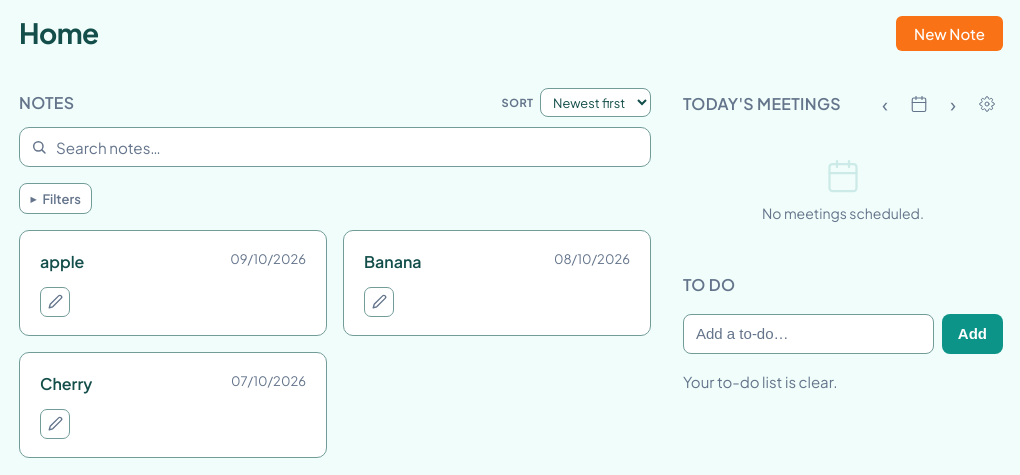
Test case: 40-B — sort control › is hidden while searching
Type "plan" into the search field labelled "Search notes…" at (335, 147), box [19,127,651,167]
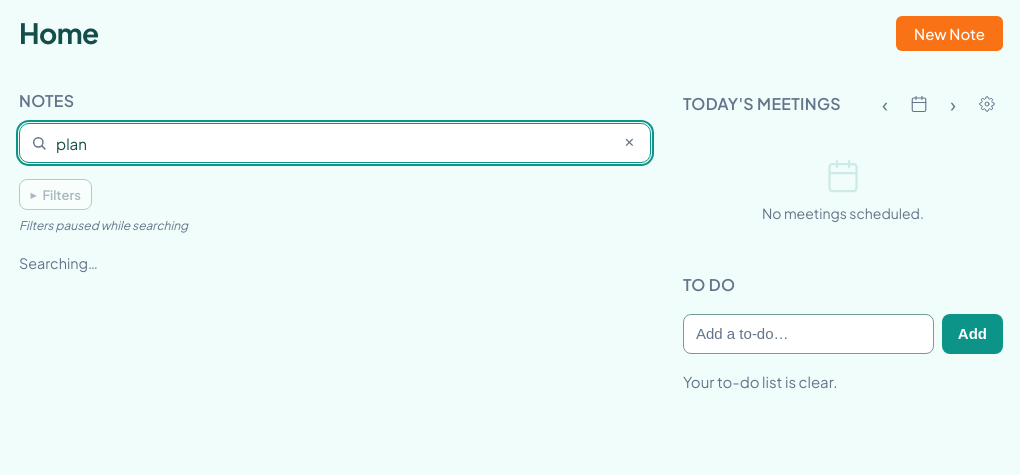
Expected: the dropdown with test id "sort-select" is gone
